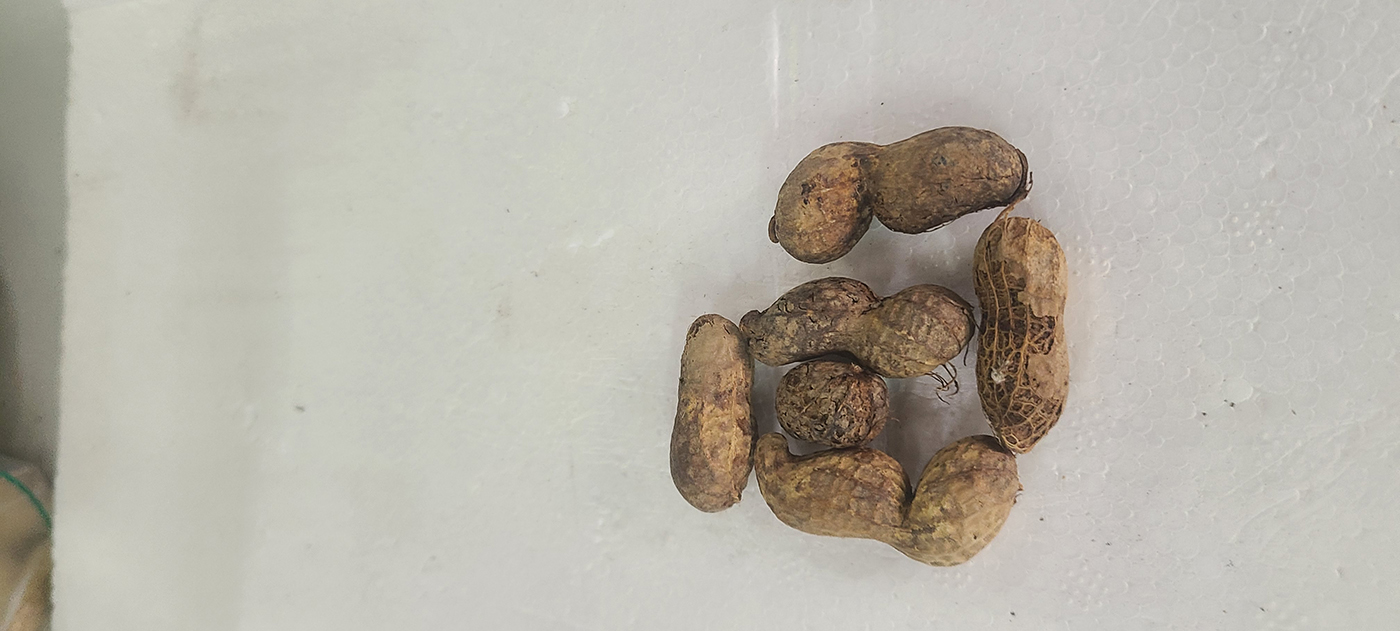l: (751, 432, 1020, 567), (771, 124, 1029, 264), (741, 277, 973, 379), (975, 218, 1071, 455), (668, 314, 756, 511), (777, 360, 893, 448)
